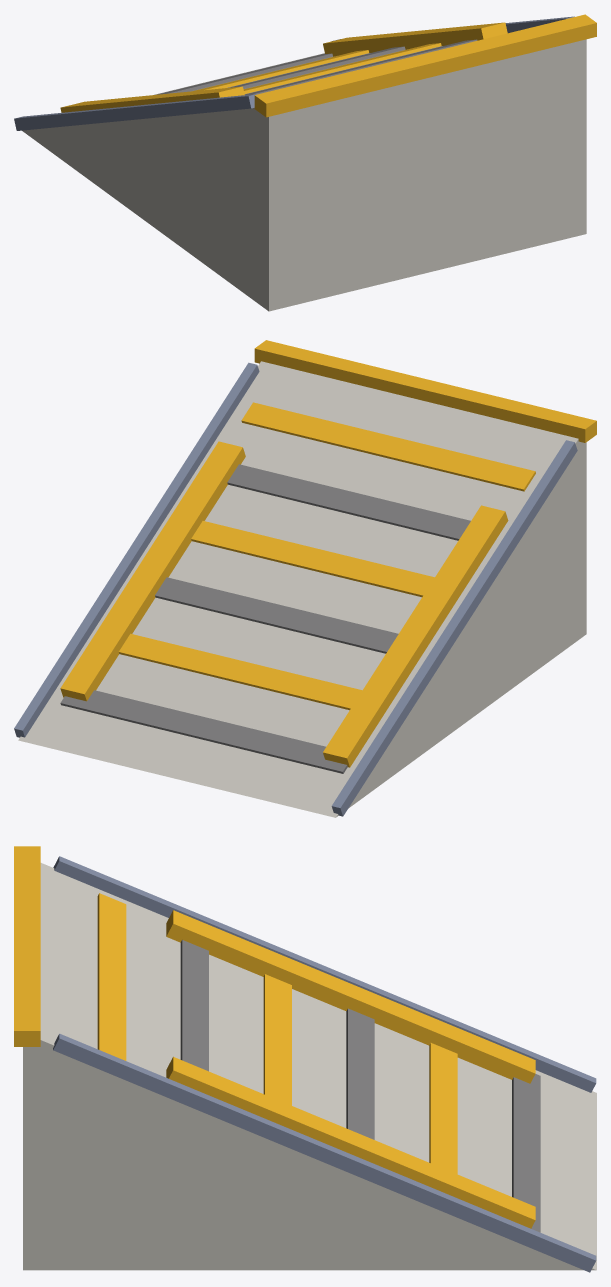
The model's file is ramp.glb.
The picture shows the model from 3 angles, top to bottom: view 1: azimuth 30°, elevation 25°; view 2: azimuth 150°, elevation 25°; view 3: azimuth 270°, elevation 25°; orthographic projection. The views are drawn at different scales.
Parts seen in each view (by area): view 1: ramp; view 2: ramp; view 3: ramp.
Part boxes in pixels (left/top/right/bottom): ramp: left=14, top=14, right=596, bottom=311; ramp: left=14, top=340, right=596, bottom=817; ramp: left=14, top=846, right=596, bottom=1272.
Bounding box in the file's own units: 1.5 × 0.92 × 2.
